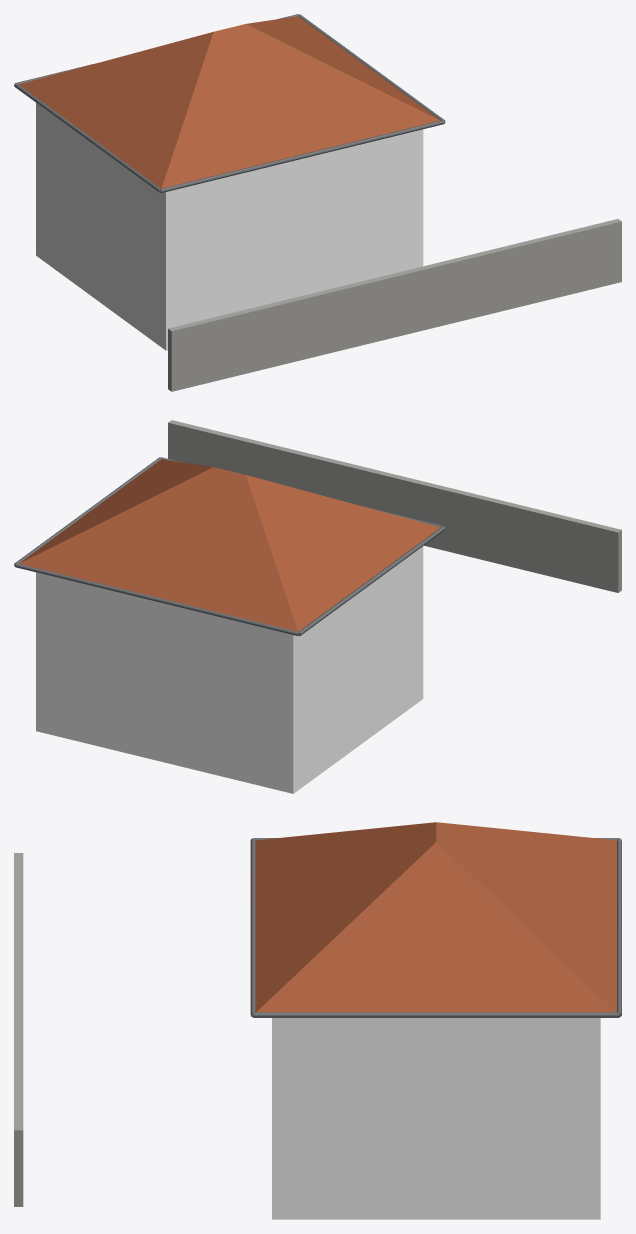
The model's file is bina_10_u.glb.
The picture shows the model from 3 angles, top to bottom: view 1: azimuth 30°, elevation 25°; view 2: azimuth 150°, elevation 25°; view 3: azimuth 270°, elevation 25°; orthographic projection. The views are drawn at different scales.
Parts seen in each view (by area): view 1: P10_Gecekondu_A_L2.001; view 2: P10_Gecekondu_A_L2.001; view 3: P10_Gecekondu_A_L2.001.
Boxes of the visible parts, bbox=[...] form: P10_Gecekondu_A_L2.001: bbox=[14, 14, 621, 391]; P10_Gecekondu_A_L2.001: bbox=[14, 420, 621, 793]; P10_Gecekondu_A_L2.001: bbox=[14, 822, 621, 1219].
Size of the model in its own units: 14 by 7.25 by 12.96.
